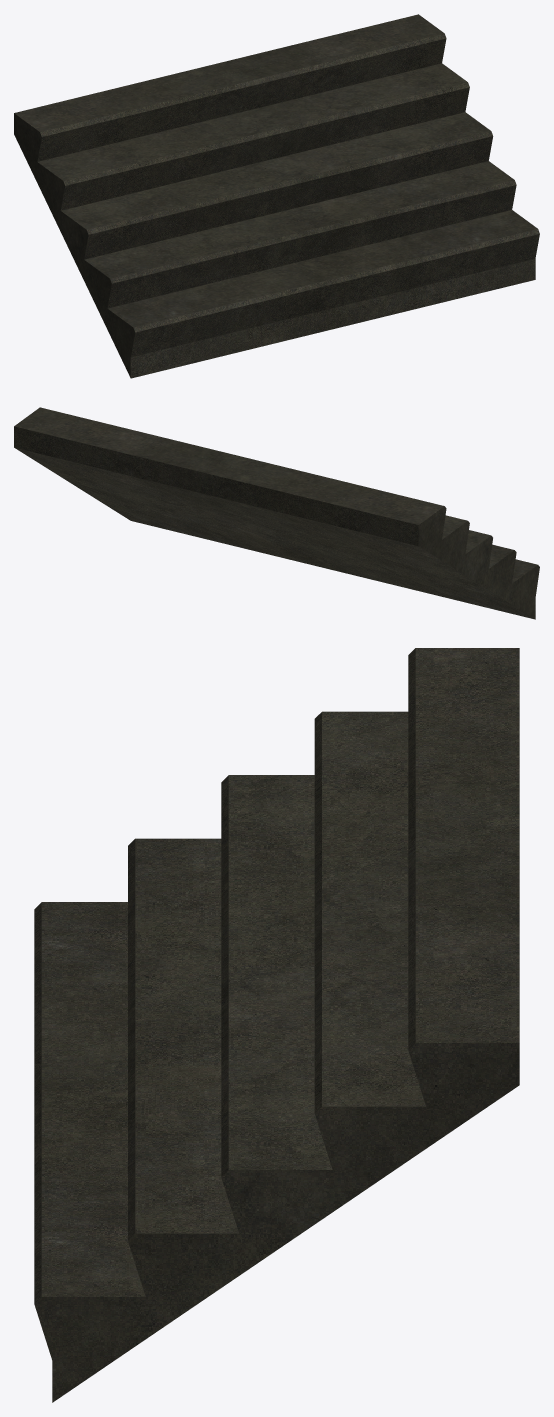
Rendered from stairs_3.glb.
3 renders of one model, top to bottom at view 1: azimuth 30°, elevation 25°; view 2: azimuth 150°, elevation 25°; view 3: azimuth 270°, elevation 25°, orthographic. The views are drawn at different scales.
Visible parts, largest first — view 1: stairs_3; view 2: stairs_3; view 3: stairs_3.
Part boxes in pixels (box(x1,y1,x2,y2)): stairs_3: box(14, 14, 539, 378); stairs_3: box(14, 407, 539, 619); stairs_3: box(34, 648, 519, 1402).
Bounding box in the file's own units: 4 × 1.7 × 2.08.
1 material, 1 textured.
